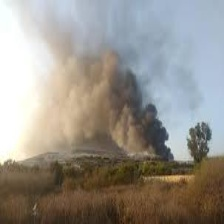smoke: (36, 54, 179, 166)
